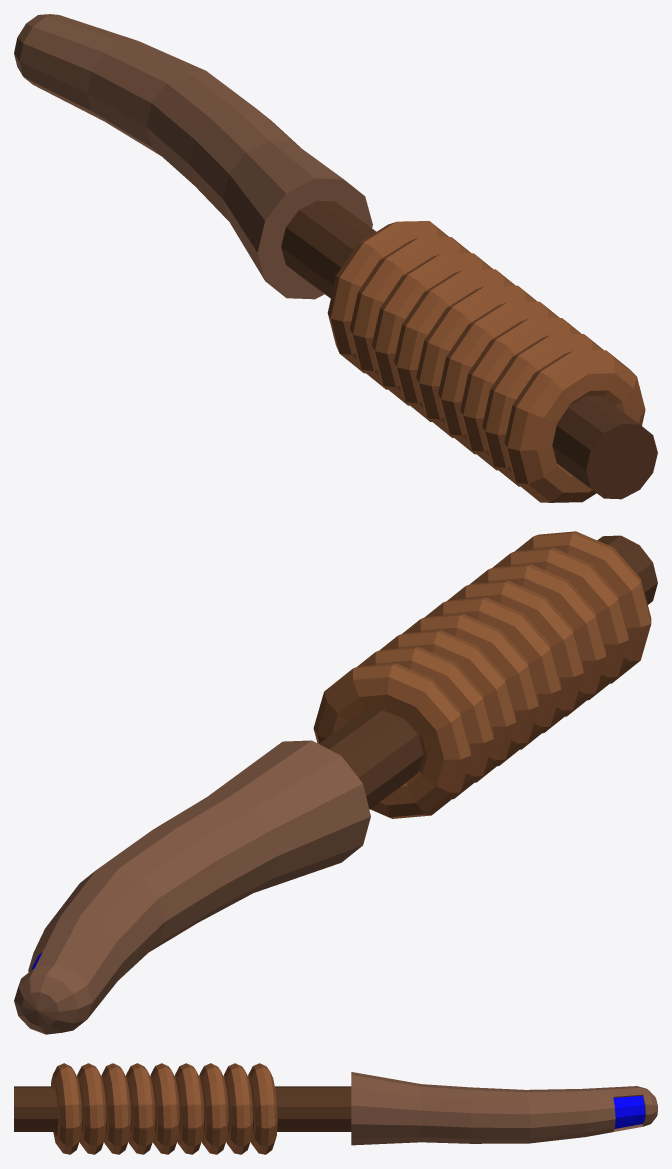
Rendered from Wand 24.glb.
3 views of the same model, one above another, from view 1: azimuth 30°, elevation 25°; view 2: azimuth 150°, elevation 25°; view 3: azimuth 270°, elevation 25° (orthographic). The views are drawn at different scales.
Visible parts, largest first — view 1: GeneratedWand; view 2: GeneratedWand; view 3: GeneratedWand.
Boxes of the visible parts, x1=… form: GeneratedWand: x1=14, y1=14, x2=657, y2=502; GeneratedWand: x1=14, y1=531, x2=657, y2=1034; GeneratedWand: x1=14, y1=1063, x2=657, y2=1154.
Bounding box in the file's own units: 0.0709 × 0.0714 × 0.4987.
